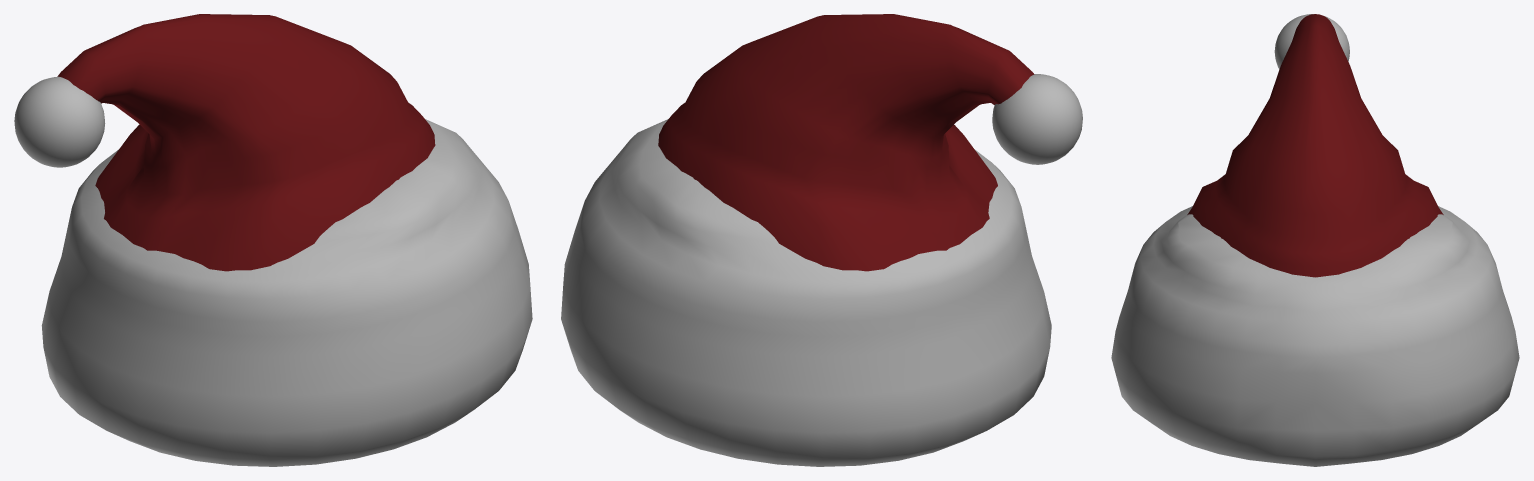
Rendered from Santa's hat.fbx.
3 renders of one model, left to right at view 1: azimuth 30°, elevation 25°; view 2: azimuth 150°, elevation 25°; view 3: azimuth 270°, elevation 25°, orthographic. The views are drawn at different scales.
Parts seen in each view (by area): view 1: Circle, Circle.001, Sphere; view 2: Circle, Circle.001, Sphere; view 3: Circle, Circle.001, Sphere.
Part boxes in pixels (x1=…): Circle: x1=41, y1=119, x2=532, y2=466; Circle.001: x1=57, y1=14, x2=435, y2=271; Sphere: x1=14, y1=76, x2=105, y2=167; Circle: x1=561, y1=119, x2=1051, y2=466; Circle.001: x1=658, y1=14, x2=1034, y2=271; Sphere: x1=992, y1=74, x2=1082, y2=164; Circle: x1=1111, y1=206, x2=1519, y2=466; Circle.001: x1=1187, y1=14, x2=1443, y2=277; Sphere: x1=1274, y1=14, x2=1349, y2=69.
Bounding box in the file's own units: 198 × 156 × 177.
